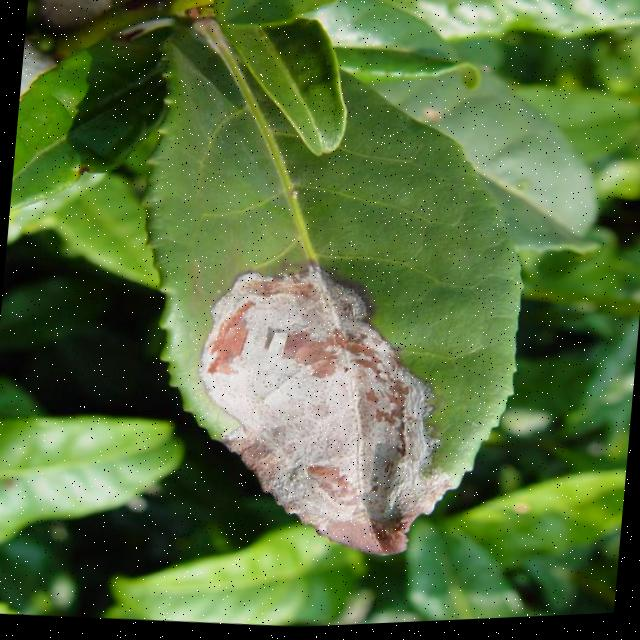Tea cloud leaf blight: (182, 249, 469, 578)
